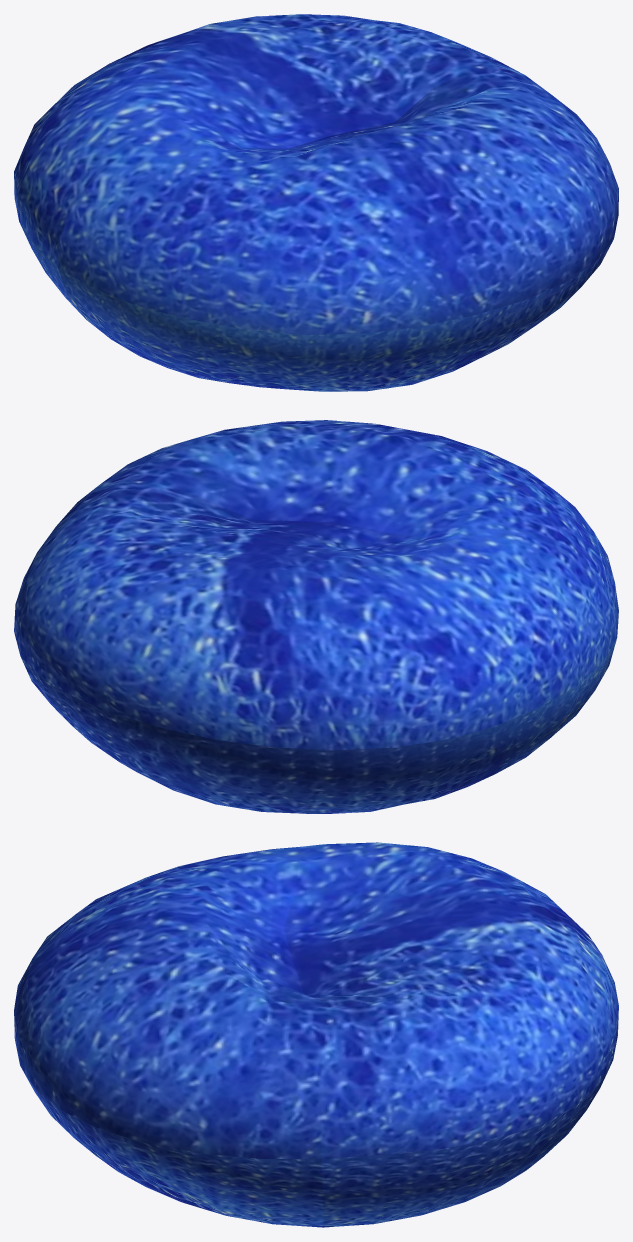
The model's file is Scrubber half.fbx.
3 renders of one model, top to bottom at view 1: azimuth 30°, elevation 25°; view 2: azimuth 150°, elevation 25°; view 3: azimuth 270°, elevation 25°, orthographic. The views are drawn at different scales.
Visible parts, largest first — view 1: polySurface3, polySurface4; view 2: polySurface4, polySurface3; view 3: polySurface4, polySurface3.
Boxes of the visible parts, <box> form: polySurface3: <box>58,68,618,391</box>; polySurface4: <box>14,14,524,318</box>; polySurface4: <box>14,478,577,813</box>; polySurface3: <box>101,420,618,736</box>; polySurface4: <box>283,842,618,1227</box>; polySurface3: <box>14,844,324,1227</box>.
Bounding box in the file's own units: 7.91 × 3.75 × 8.06.
